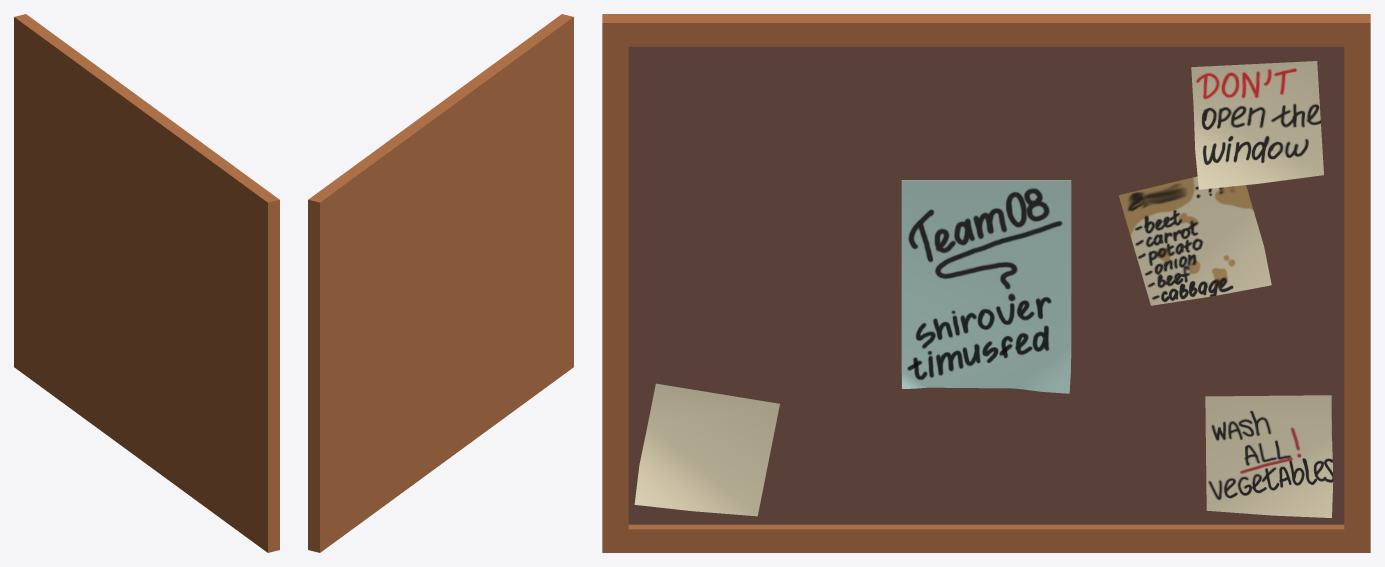
Rendered from corkBoard.fbx.
The picture shows the model from 3 angles, left to right: view 1: azimuth 30°, elevation 25°; view 2: azimuth 150°, elevation 25°; view 3: azimuth 270°, elevation 25°; orthographic projection. The views are drawn at different scales.
Visible parts, largest first — view 1: cork board; view 2: cork board; view 3: cork board, big_note, note_2, note_3.001, note_1, note_3.
Boxes of the visible parts, left/top/right/bottom form: cork board: left=14, top=14, right=279, bottom=552; cork board: left=308, top=14, right=573, bottom=552; cork board: left=602, top=14, right=1370, bottom=552; big_note: left=901, top=180, right=1071, bottom=393; note_2: left=1191, top=61, right=1323, bottom=189; note_3.001: left=1205, top=395, right=1333, bottom=517; note_1: left=634, top=383, right=779, bottom=516; note_3: left=1118, top=176, right=1271, bottom=305.
Size of the model in its own units: 0.0306 by 0.4615 by 0.606.
